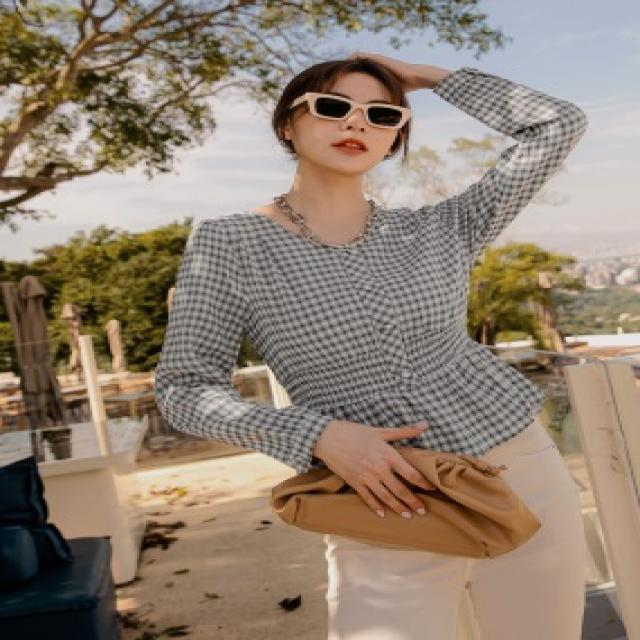plaid: (153, 199, 541, 468)
